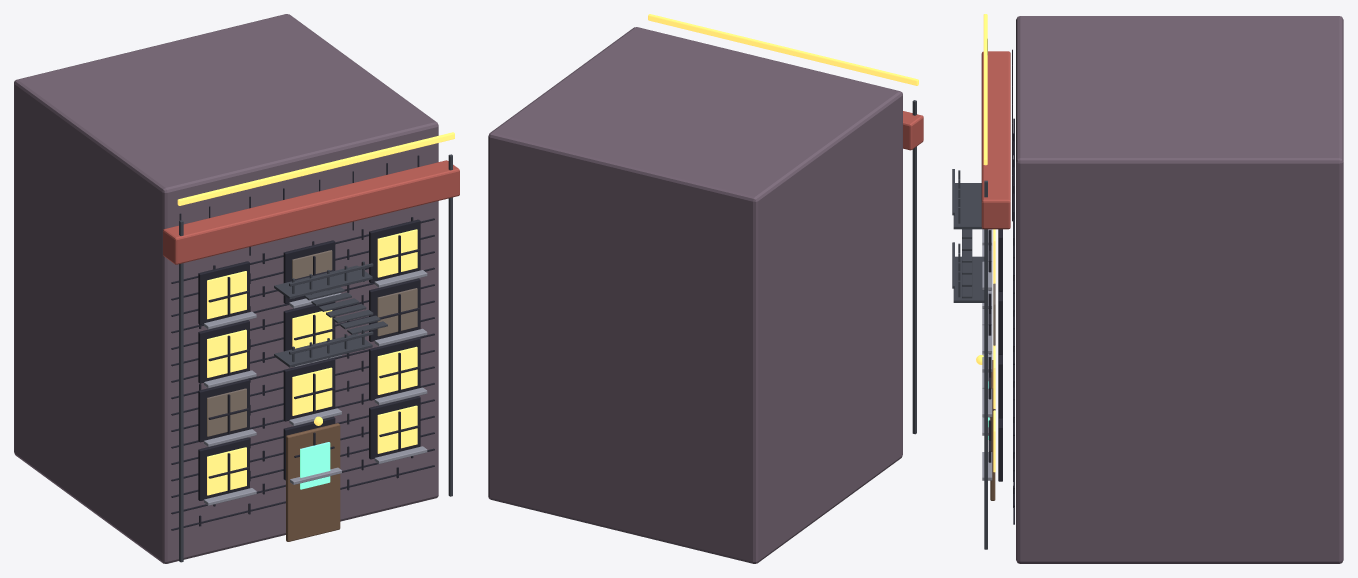
File: apartment-block.glb
3 views of the same model, side by side, from view 1: azimuth 30°, elevation 25°; view 2: azimuth 150°, elevation 25°; view 3: azimuth 270°, elevation 25° (orthographic). The views are drawn at different scales.
Visible parts, largest first — view 1: tall lived in apartment shell, red apartment cornice awning, front apartment entry door, roof amber neon gutter, right drain pipe, left drain pipe, apartment smoky pane 0-2, apartment smoky pane 3-2, apartment smoky pane 1-2, apartment smoky pane 1-1, apartment smoky pane 0-0, apartment smoky pane 1-0 (+19 smaller); view 2: tall lived in apartment shell, roof amber neon gutter, left drain pipe, red apartment cornice awning; view 3: tall lived in apartment shell, red apartment cornice awning, right drain pipe, fire escape grated platform 1, fire escape grated platform 0, roof amber neon gutter.
Part boxes in pixels (left/top/right/bottom): tall lived in apartment shell: left=14, top=14, right=438, bottom=563; red apartment cornice awning: left=163, top=160, right=459, bottom=264; front apartment entry door: left=286, top=423, right=340, bottom=541; roof amber neon gutter: left=177, top=132, right=454, bottom=205; right drain pipe: left=448, top=154, right=452, bottom=496; left drain pipe: left=179, top=220, right=183, bottom=562; apartment smoky pane 0-2: left=377, top=405, right=417, bottom=453; apartment smoky pane 3-2: left=377, top=229, right=417, bottom=277; apartment smoky pane 1-2: left=377, top=346, right=417, bottom=394; apartment smoky pane 1-1: left=292, top=367, right=332, bottom=415; apartment smoky pane 0-0: left=207, top=447, right=246, bottom=495; apartment smoky pane 1-0: left=207, top=388, right=246, bottom=436; tall lived in apartment shell: left=488, top=27, right=902, bottom=563; roof amber neon gutter: left=648, top=14, right=918, bottom=85; left drain pipe: left=912, top=100, right=916, bottom=434; red apartment cornice awning: left=903, top=111, right=923, bottom=150; tall lived in apartment shell: left=1016, top=16, right=1343, bottom=563; red apartment cornice awning: left=981, top=51, right=1010, bottom=229; right drain pipe: left=984, top=180, right=987, bottom=549; fire escape grated platform 1: left=953, top=183, right=983, bottom=229; fire escape grated platform 0: left=953, top=256, right=984, bottom=302; roof amber neon gutter: left=983, top=14, right=987, bottom=165.
Bounding box in the file's own units: 6.35 × 8.01 × 6.99.
